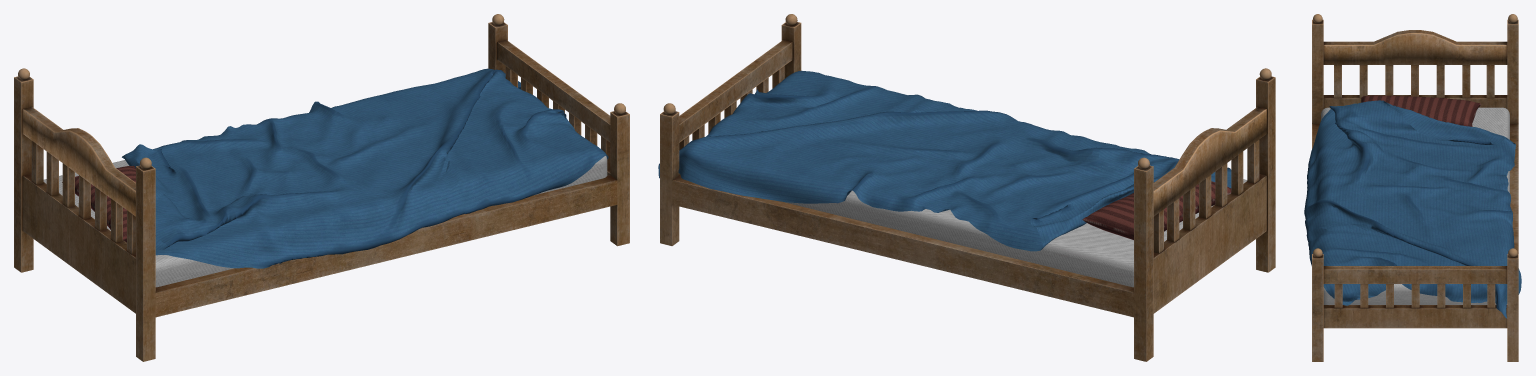
File: giuong1.glb
3 views of the same model, side by side, from view 1: azimuth 30°, elevation 25°; view 2: azimuth 150°, elevation 25°; view 3: azimuth 270°, elevation 25° (orthographic). The views are drawn at different scales.
Parts seen in each view (by area): view 1: Lowgo, Cube.017, Cube.010; view 2: Lowgo, Cube.017, Cube.010; view 3: Lowgo, Cube.017, Cube.010.
Boxes of the visible parts, <box> form: Lowgo: <box>62,68,608,268</box>; Cube.017: <box>14,14,629,361</box>; Cube.010: <box>43,156,607,287</box>; Lowgo: <box>658,70,1231,251</box>; Cube.017: <box>660,14,1275,361</box>; Cube.010: <box>782,179,1247,287</box>; Lowgo: <box>1304,95,1521,318</box>; Cube.017: <box>1312,14,1518,361</box>; Cube.010: <box>1321,107,1509,304</box>.
Bounding box in the file's own units: 2.07 × 0.7913 × 0.9746.
3 materials, 3 textured.
